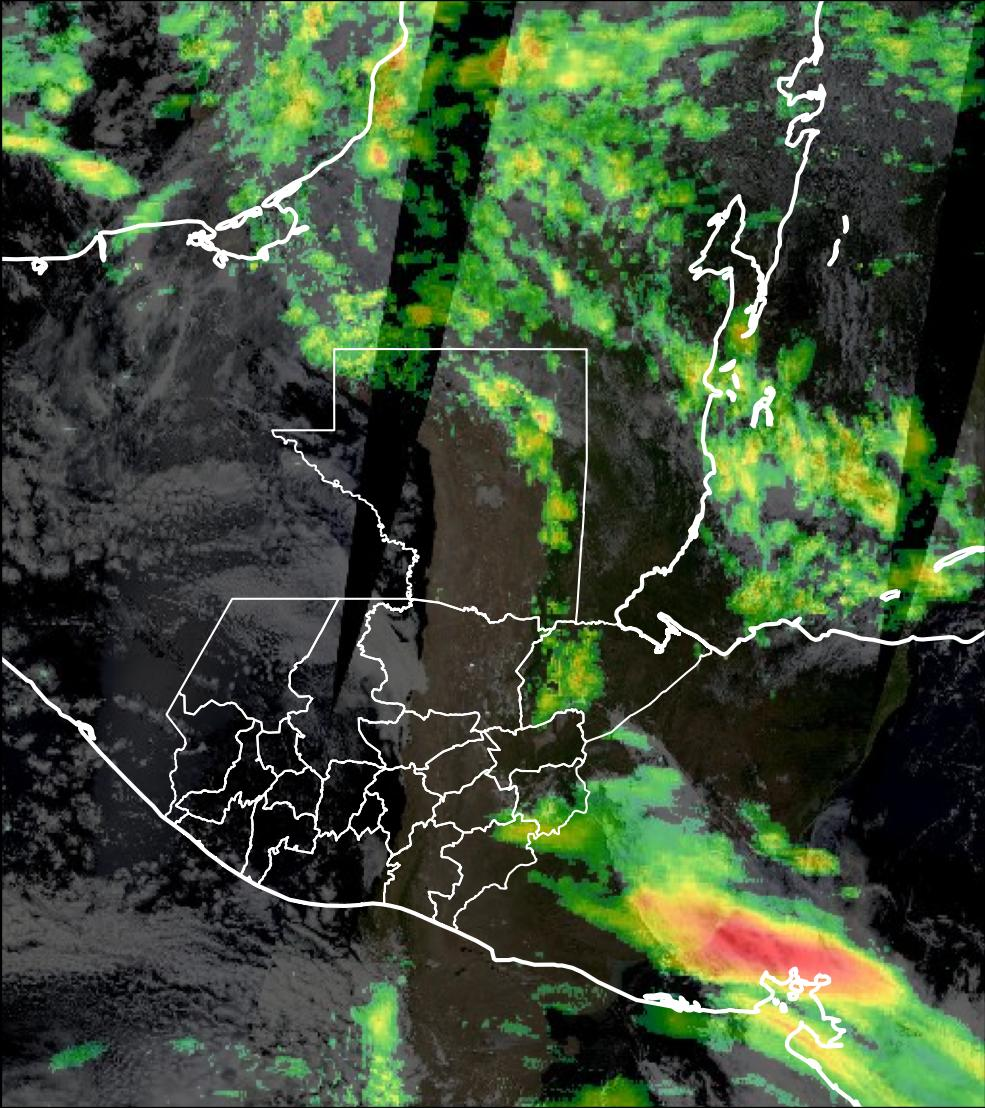precipitacion: (660, 887, 913, 1002)
